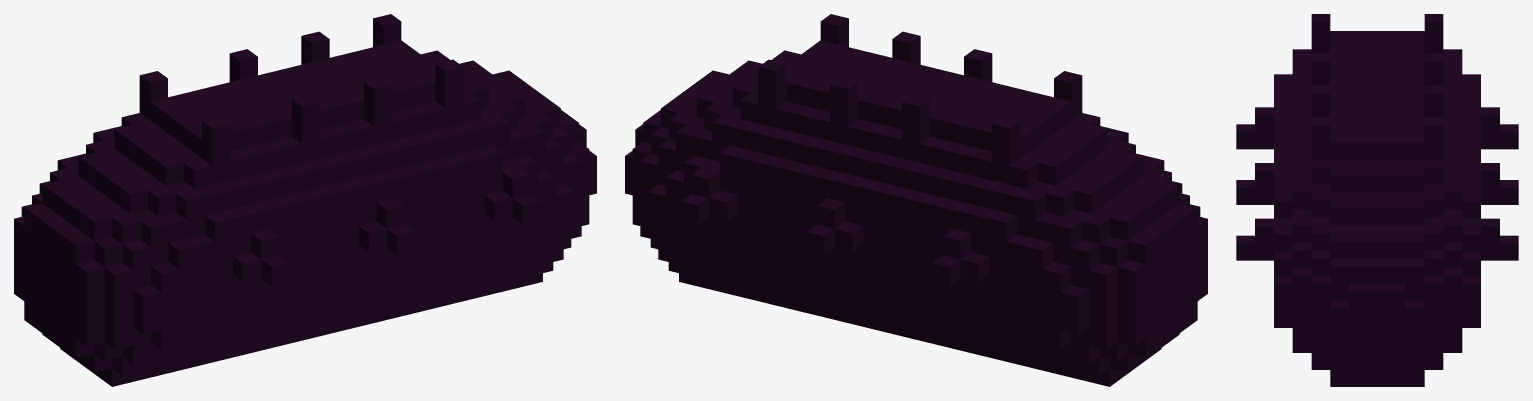
File: sea-cucumber.obj
3 views of the same model, side by side, from view 1: azimuth 30°, elevation 25°; view 2: azimuth 150°, elevation 25°; view 3: azimuth 270°, elevation 25° (orthographic). The views are drawn at different scales.
Size of the model in its own units: 2.9 by 1.3 by 1.5.
1 material, 1 textured.
